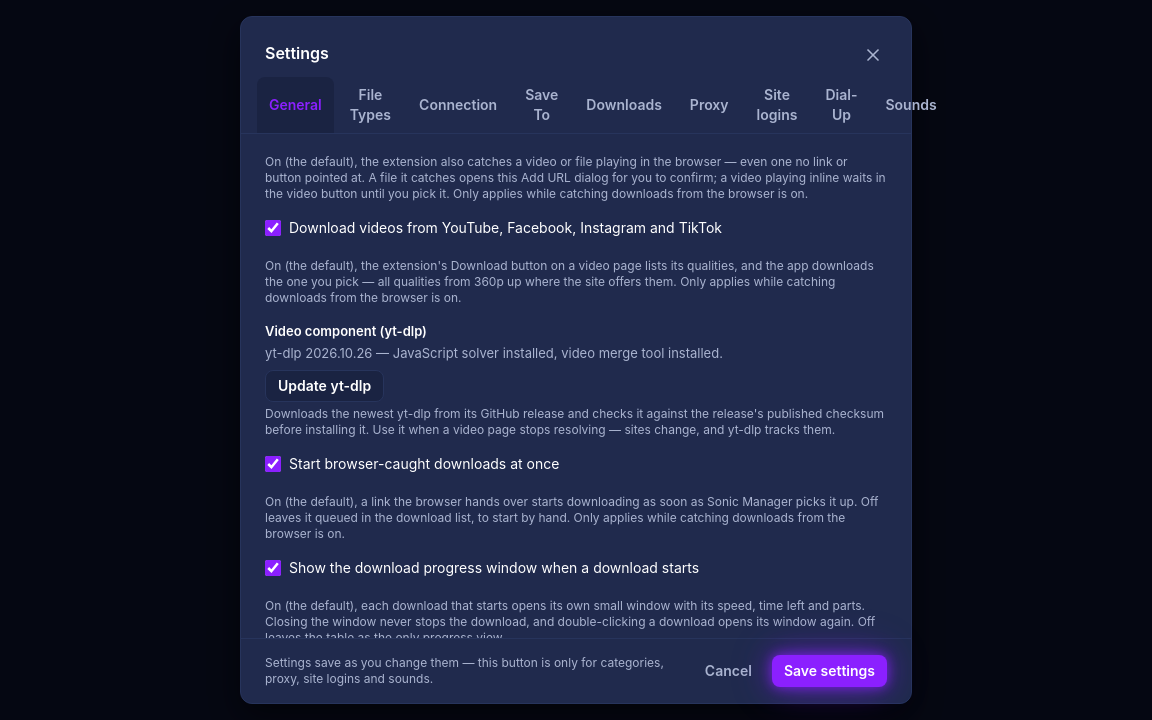
Test: Update yt-dlp button › a failed update shows the reason
(page scrolled)
Expected: the text "yt-dlp 2026.10.26" is shown, [265,345,723,361]
Click the button "Update yt-dlp": [325, 386] box [265,370,384,402]
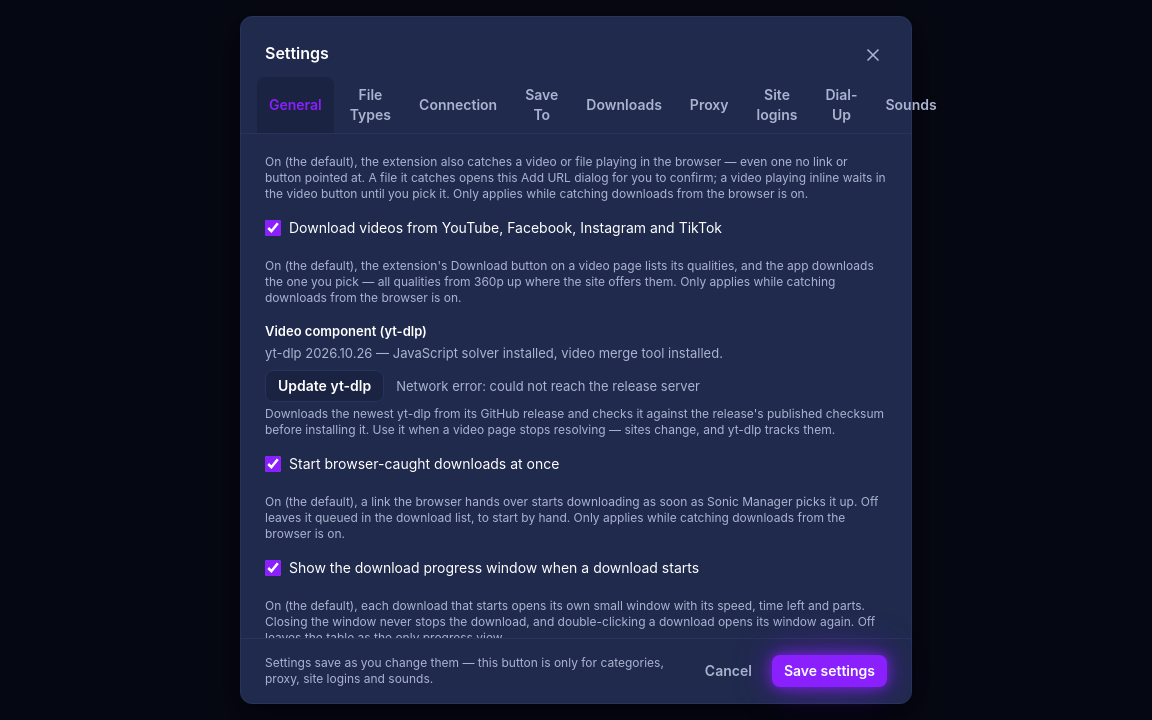
Now the text "Network error: could not reach the release server" is shown, box [396,377,700,395]
